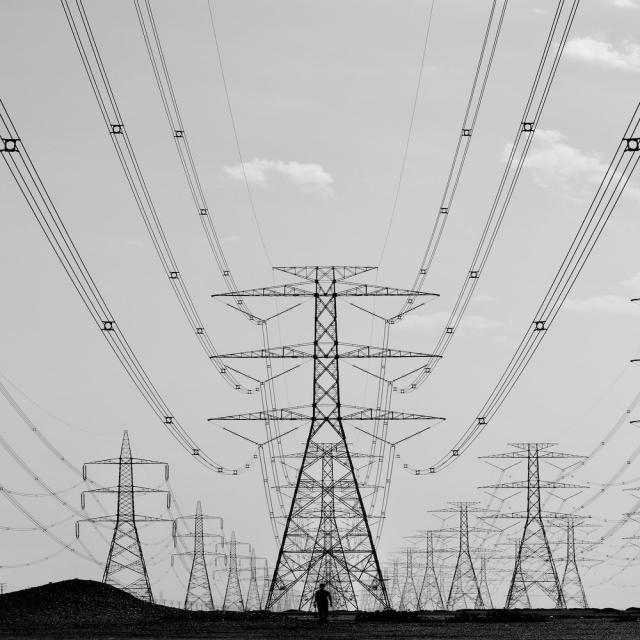transmission tower: (182, 227, 507, 594), (446, 394, 624, 600), (66, 426, 193, 597)
